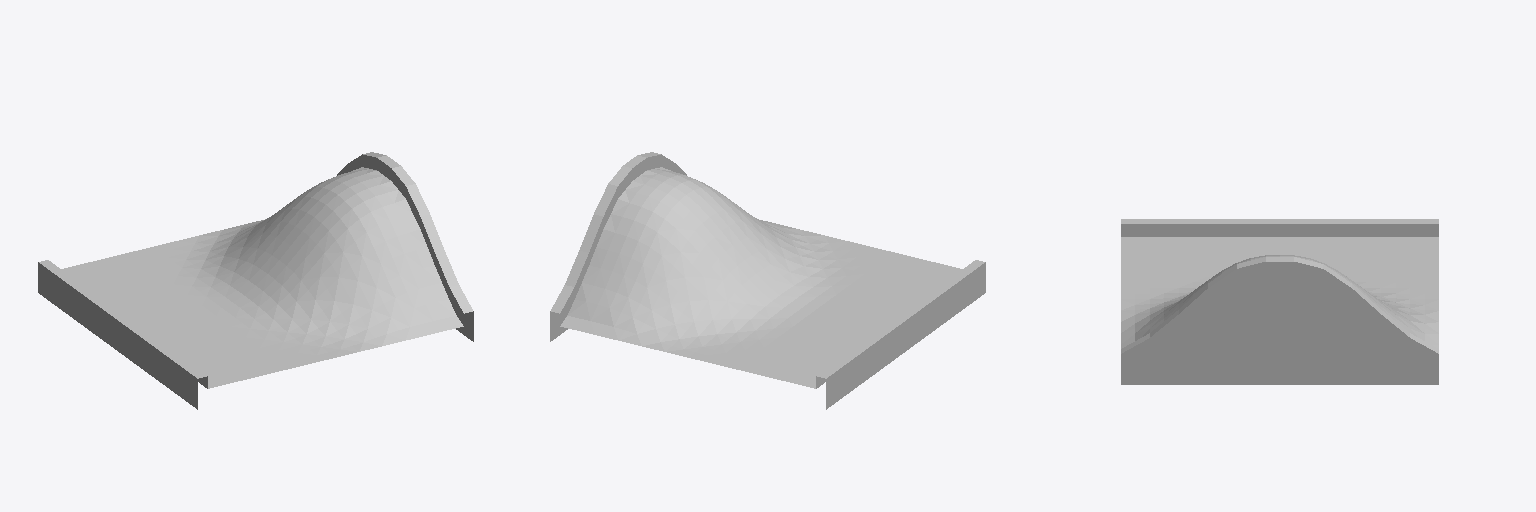
The model's file is sideBump_right_B_3x3.obj.
3 views of the same model, side by side, from view 1: azimuth 30°, elevation 25°; view 2: azimuth 150°, elevation 25°; view 3: azimuth 270°, elevation 25° (orthographic).
Parts seen in each view (by area): view 1: modelPanel2ViewSelectedSet sideBump_right_B_3x3; view 2: modelPanel2ViewSelectedSet sideBump_right_B_3x3; view 3: modelPanel2ViewSelectedSet sideBump_right_B_3x3.
Part boxes in pixels (left/top/right/bottom): modelPanel2ViewSelectedSet sideBump_right_B_3x3: left=38, top=152, right=473, bottom=409; modelPanel2ViewSelectedSet sideBump_right_B_3x3: left=550, top=152, right=985, bottom=409; modelPanel2ViewSelectedSet sideBump_right_B_3x3: left=1121, top=219, right=1438, bottom=384.
Bounding box in the file's own units: 3 × 1.28 × 3.